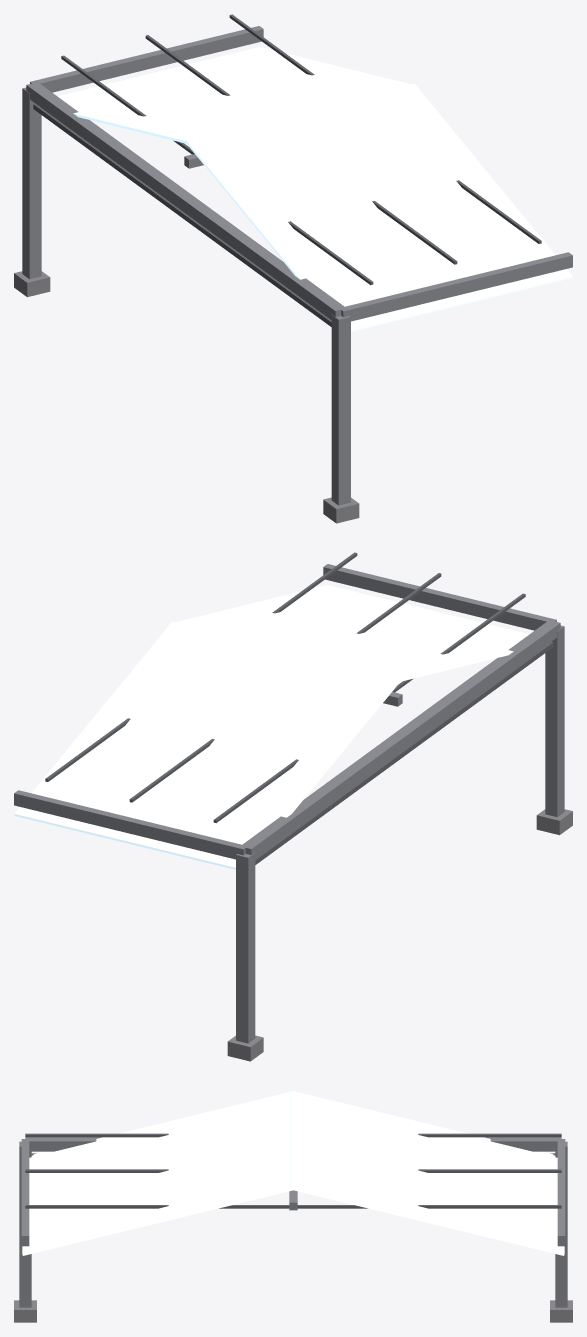
Rendered from prop_arcade_unit.glb.
3 views of the same model, one above another, from view 1: azimuth 30°, elevation 25°; view 2: azimuth 150°, elevation 25°; view 3: azimuth 270°, elevation 25° (orthographic). The views are drawn at different scales.
Parts seen in each view (by area): view 1: arcade_unit; view 2: arcade_unit; view 3: arcade_unit.
Part boxes in pixels (bbox=[...]): arcade_unit: bbox=[14, 14, 572, 523]; arcade_unit: bbox=[14, 552, 572, 1061]; arcade_unit: bbox=[14, 1090, 572, 1322].
Size of the model in its own units: 6.3 by 6.55 by 14.6.
